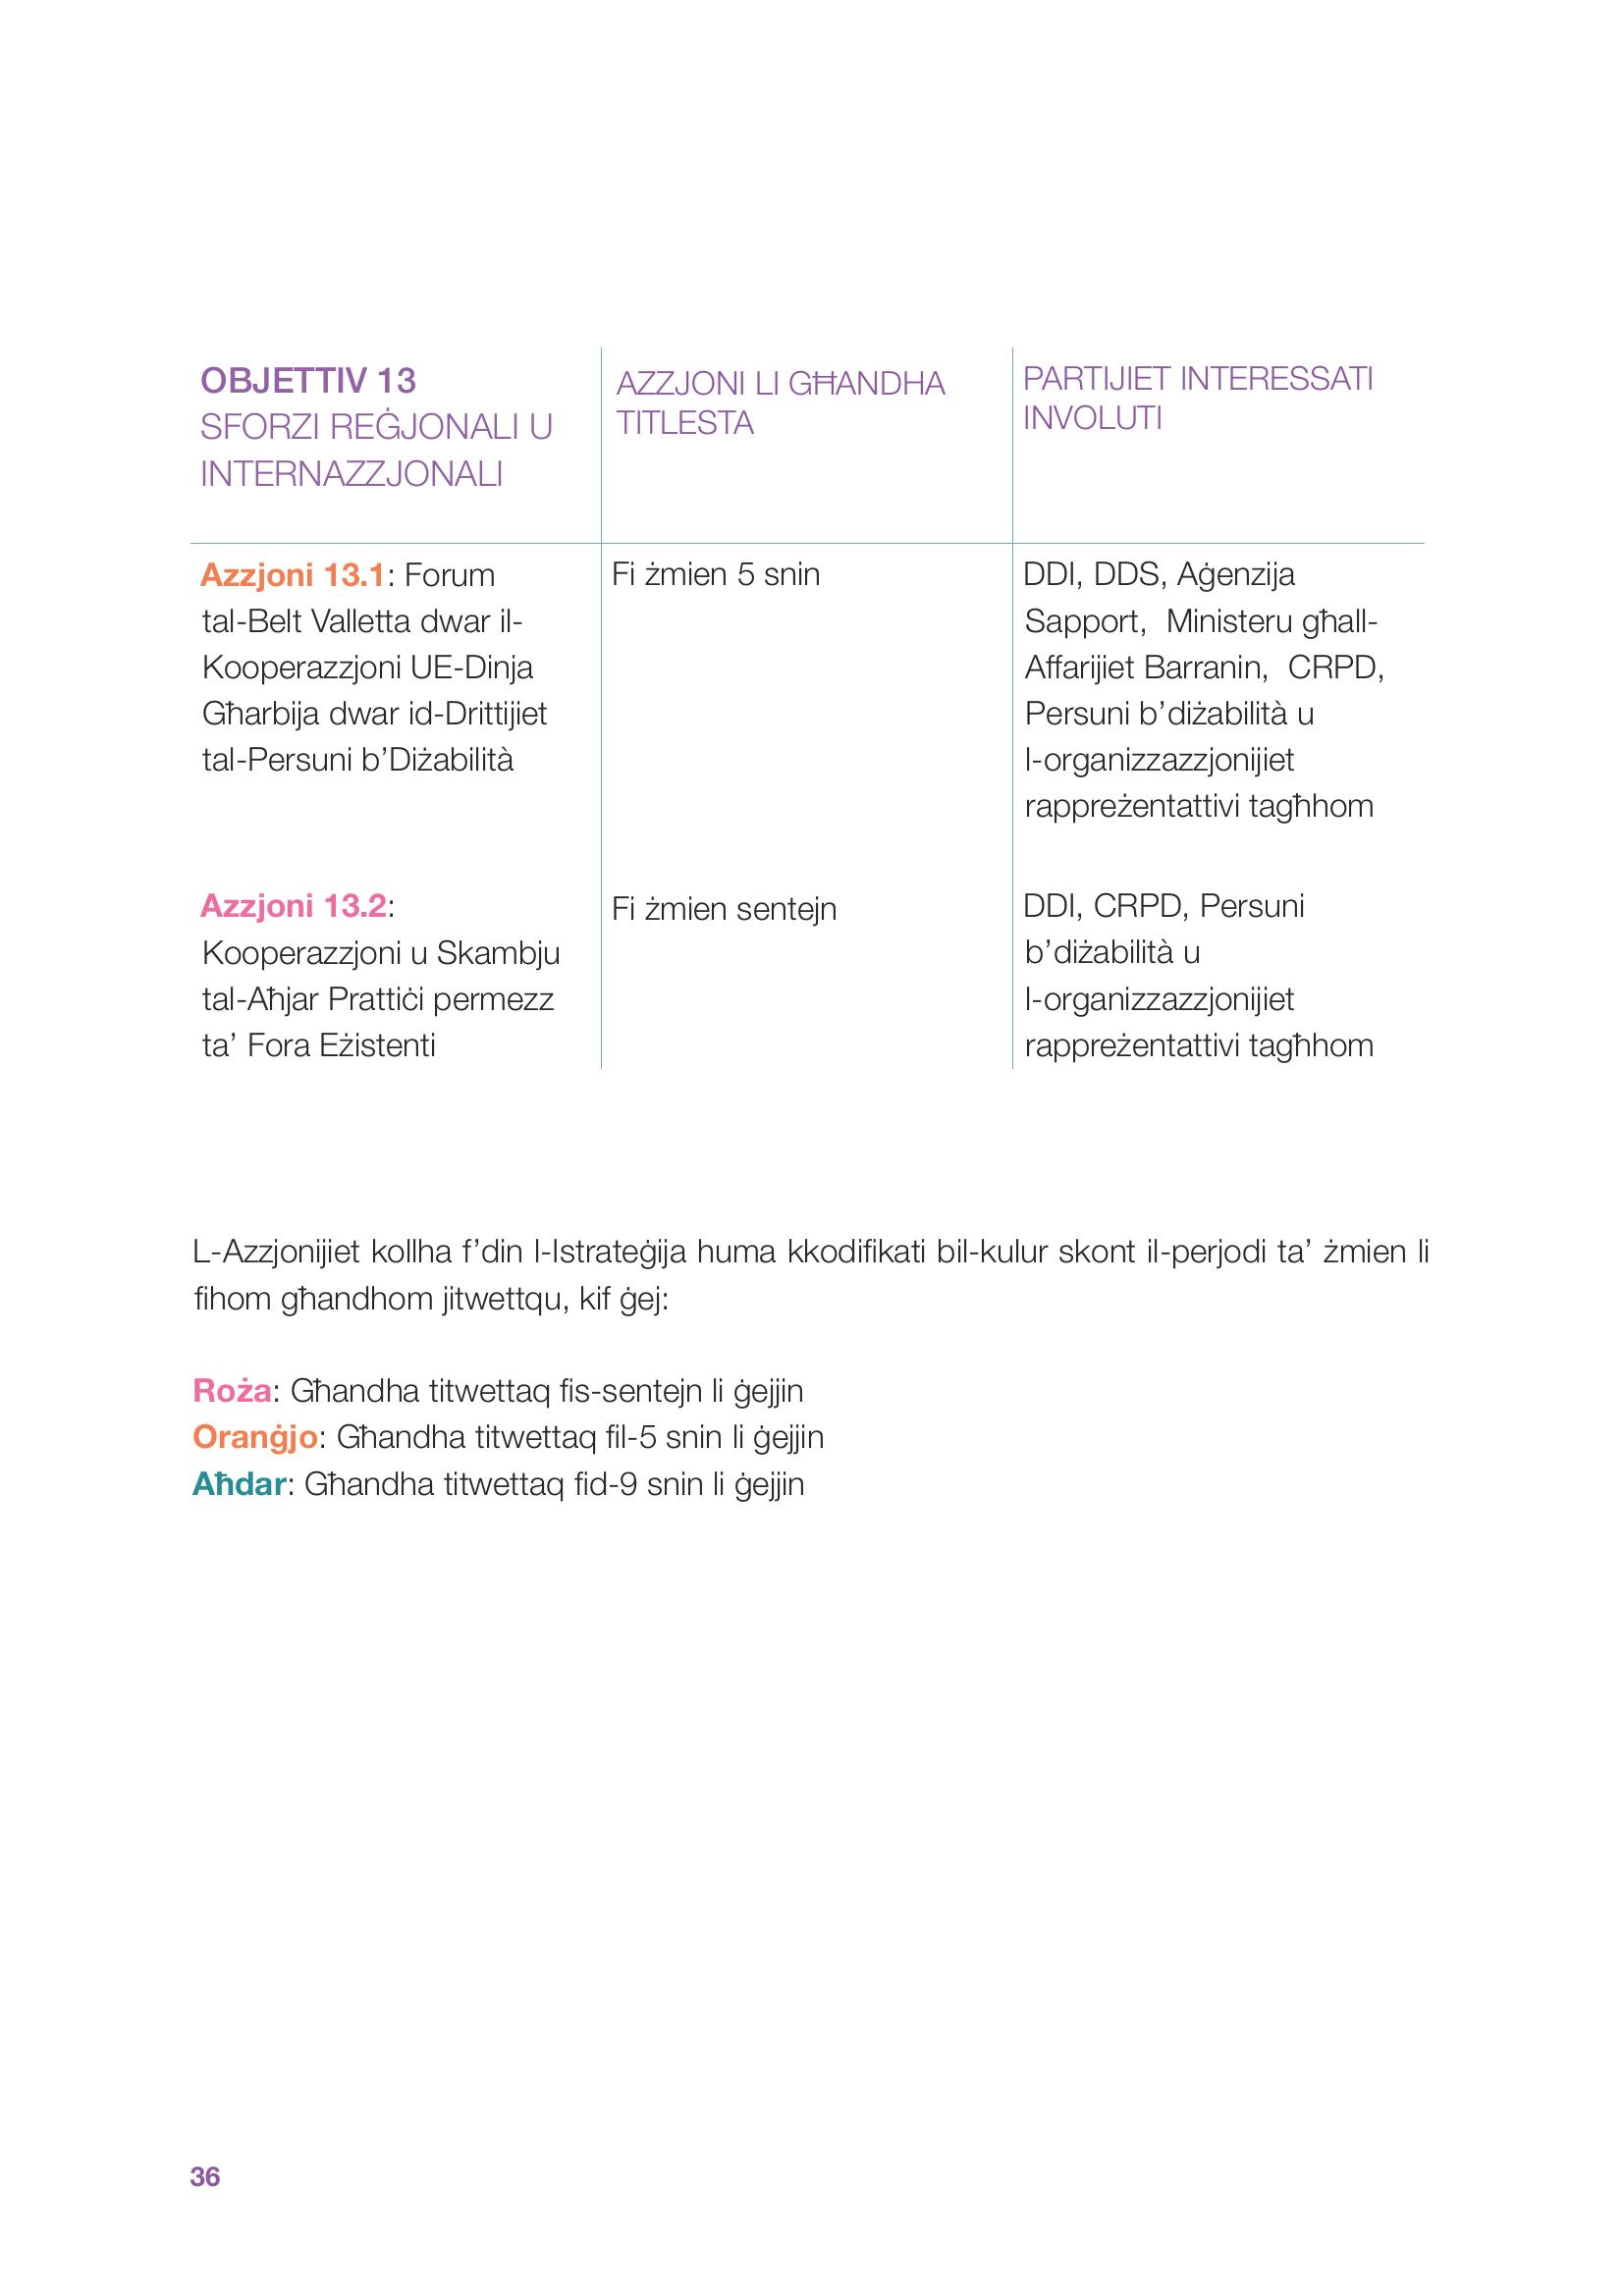text: (158, 1209, 1445, 1528)
